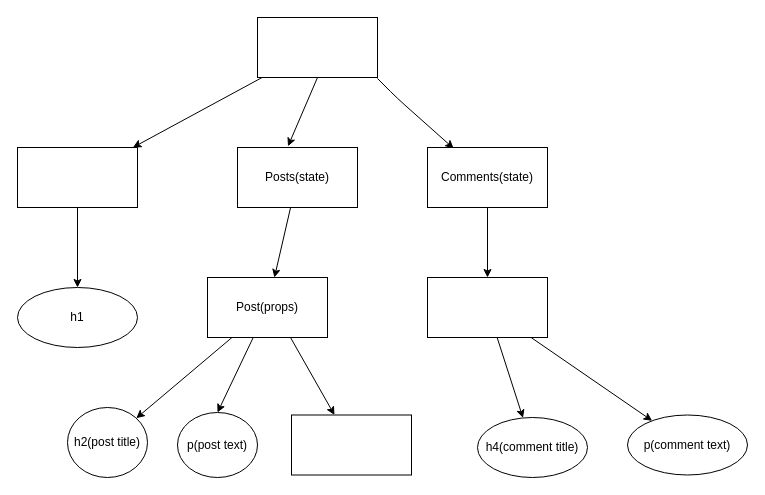
Some shapes in this 765 by 495 pixel diagram are drawn without their labels. The shapes that lost their labels are listed below. From the top down, each one's centre as x and y in pixels, then its label:
point (317, 47): App
point (77, 177): Header
point (487, 307): Comment(props)
point (351, 444): Button
